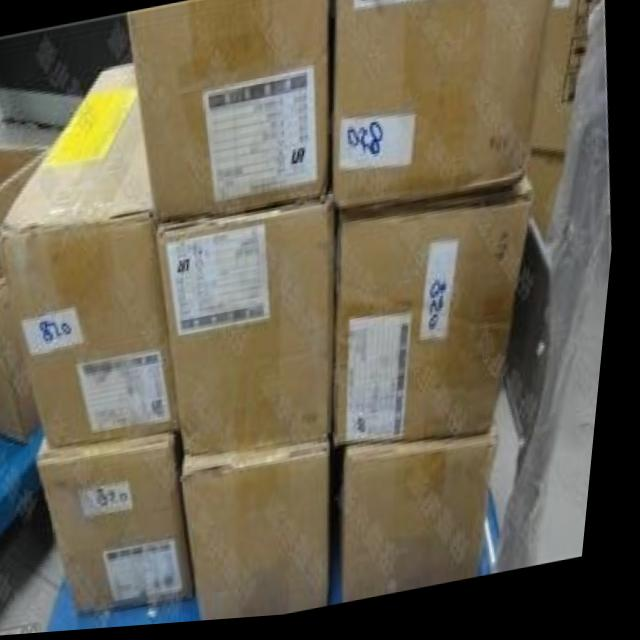box: (5, 61, 190, 448), (341, 179, 536, 451), (161, 191, 343, 459), (335, 0, 548, 214), (127, 0, 330, 224), (46, 436, 209, 619), (353, 423, 509, 609), (189, 449, 341, 625), (0, 143, 53, 448), (535, 0, 605, 163), (529, 158, 570, 258)
